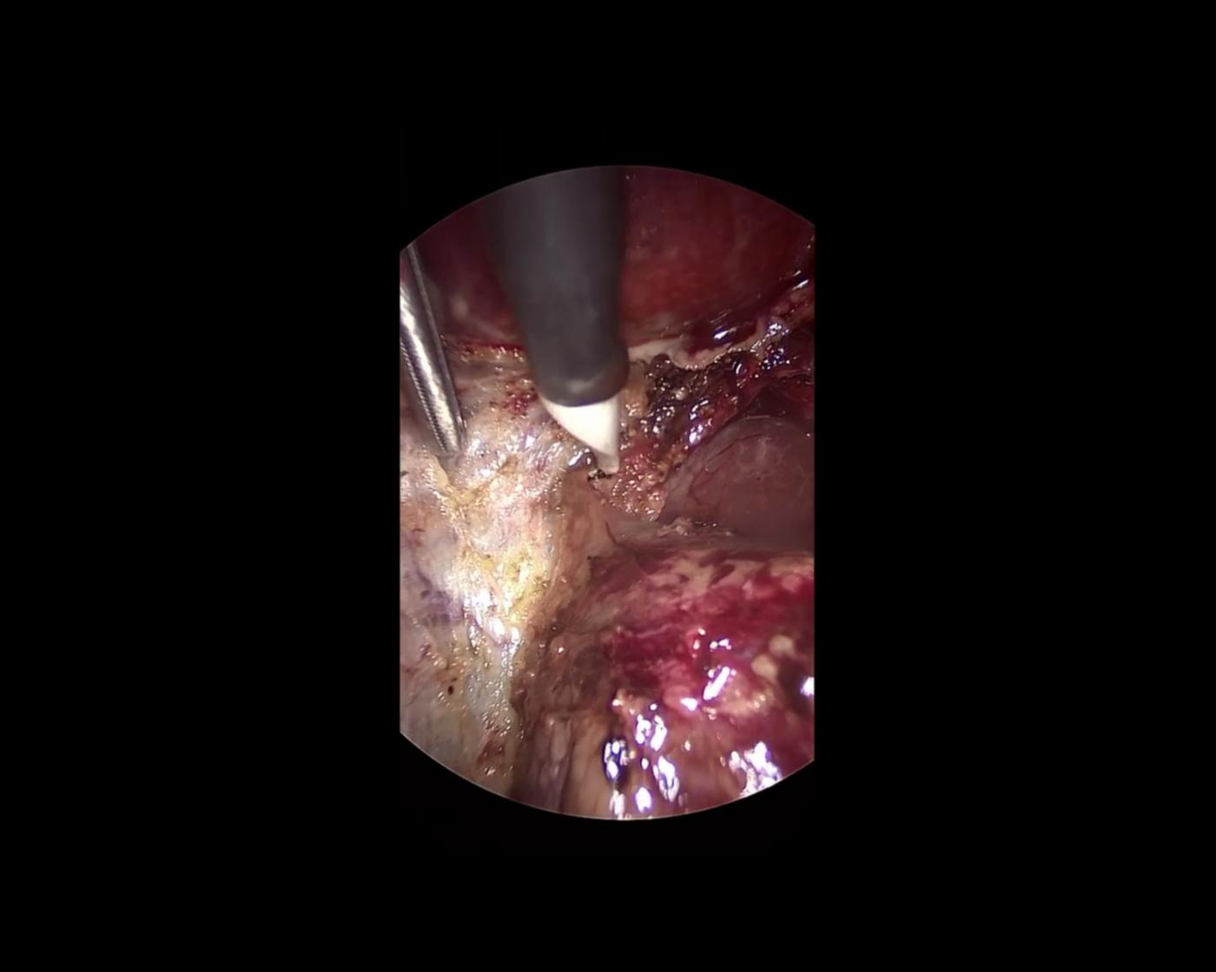Cautery: (481, 164, 628, 475)
Forceps: (366, 240, 473, 464)
Gallbladder: (501, 497, 846, 843)
Liver: (416, 164, 814, 345), (661, 407, 815, 537)
